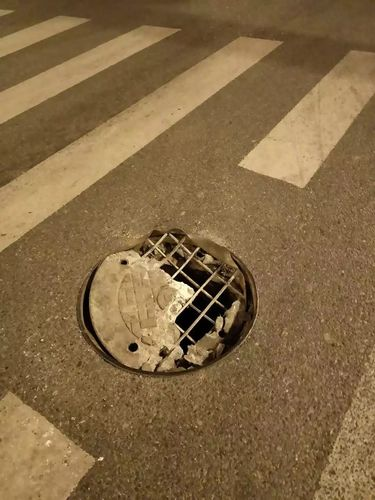broke: (65, 219, 270, 383)
